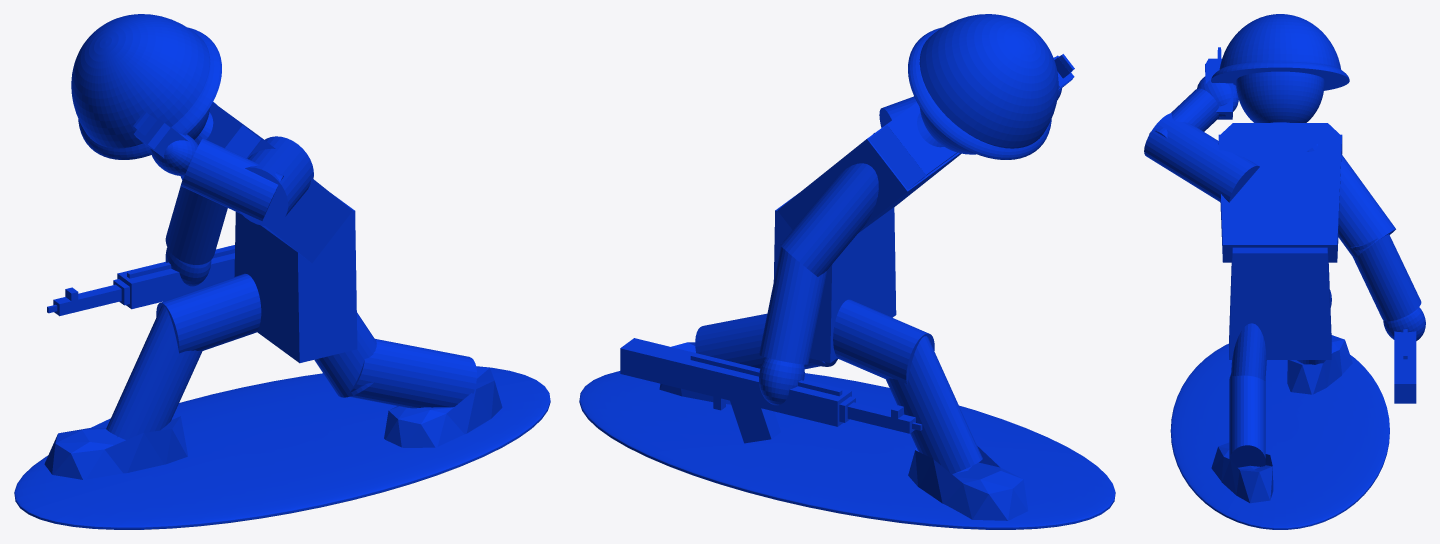
The model's file is toysoldier1(BLUE).fbx.
3 views of the same model, side by side, from view 1: azimuth 30°, elevation 25°; view 2: azimuth 150°, elevation 25°; view 3: azimuth 270°, elevation 25° (orthographic). The views are drawn at different scales.
Visible parts, largest first — view 1: Cylinder, Cone.002, Cube.001, Cylinder.007, Cylinder.006, Icosphere.006, Cylinder.004, Cube, Cube.007, Icosphere.001, Cylinder.002, Cylinder.003 (+5 smaller); view 2: Cylinder, Cone.002, Cube.007, Cube, Cube.001, Cylinder.006, Cylinder.001, Icosphere.006, Cylinder.005, Cylinder.004, Cylinder.007, Sphere; view 3: Cylinder, Cube, Cube.001, Cone.002, Cylinder.003, Cylinder.005, Cylinder.007, Cylinder.001, Icosphere.001, Icosphere.006, Cube.007, Cylinder.008 (+4 smaller).
Boxes of the visible parts, <box> form: Cylinder: <box>14,366,550,529</box>; Cone.002: <box>71,14,221,159</box>; Cube.001: <box>234,193,357,363</box>; Cylinder.007: <box>349,339,476,408</box>; Cylinder.006: <box>106,305,202,439</box>; Icosphere.006: <box>44,414,187,479</box>; Cylinder.004: <box>156,273,261,353</box>; Cube: <box>206,102,352,263</box>; Cube.007: <box>47,245,234,316</box>; Icosphere.001: <box>384,367,502,447</box>; Cylinder.002: <box>181,138,283,220</box>; Cylinder.003: <box>239,136,313,226</box>; Cylinder: <box>579,371,1115,529</box>; Cone.002: <box>908,14,1058,159</box>; Cube.007: <box>620,338,922,443</box>; Cube: <box>777,102,961,232</box>; Cube.001: <box>773,193,896,363</box>; Cylinder.006: <box>885,336,982,474</box>; Cylinder.001: <box>780,133,878,276</box>; Icosphere.006: <box>908,446,1028,520</box>; Cylinder.005: <box>759,246,827,364</box>; Cylinder.004: <box>833,299,934,384</box>; Cylinder.007: <box>695,313,825,369</box>; Sphere: <box>759,357,804,405</box>; Cylinder: <box>1170,343,1389,529</box>; Cube: <box>1218,123,1342,262</box>; Cube.001: <box>1229,247,1331,359</box>; Cone.002: <box>1211,14,1349,122</box>; Cylinder.003: <box>1144,113,1259,202</box>; Cylinder.005: <box>1350,234,1421,321</box>; Cylinder.007: <box>1229,374,1265,467</box>; Cylinder.001: <box>1307,144,1395,258</box>; Icosphere.001: <box>1211,442,1273,503</box>; Icosphere.006: <box>1287,335,1352,394</box>; Cube.007: <box>1394,329,1416,403</box>; Cylinder.008: <box>1231,323,1266,380</box>.
Bounding box in the file's own units: 423 × 366 × 257.
